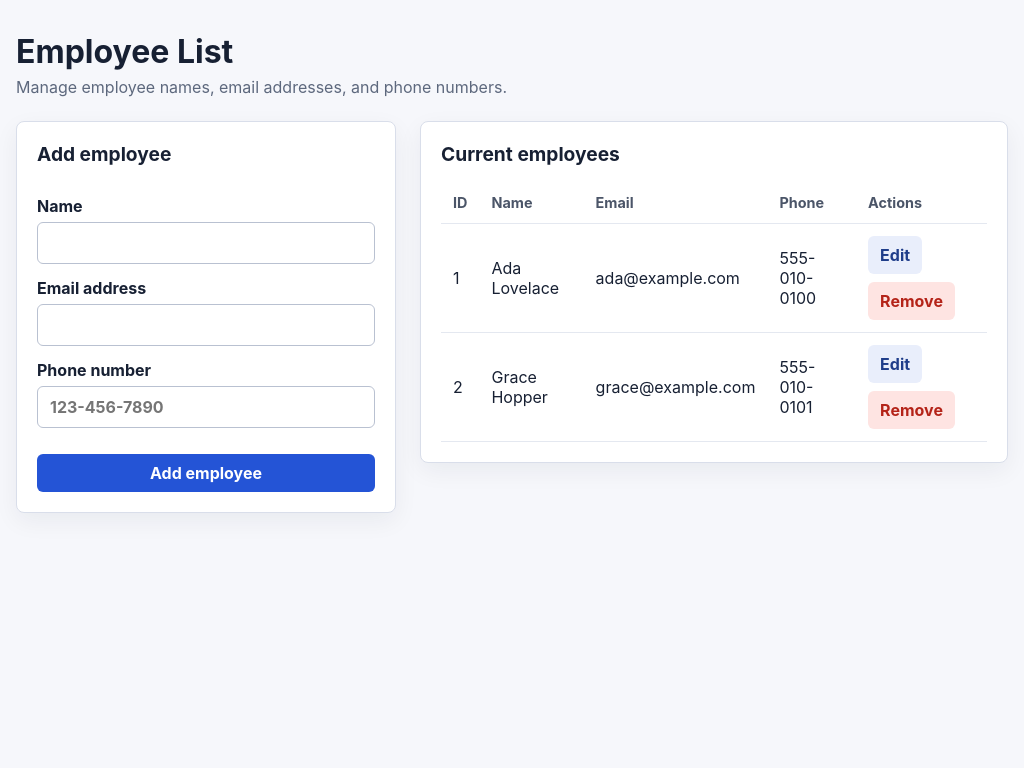
Test case: App › shows duplicate-email alert and keeps edit form values after failed update
Expected: the text "Ada Lovelace" is shown, [479, 224, 584, 332]
Click the button "Edit" in the row of "Ada Lovelace".
click(895, 255)  # box [868, 236, 922, 274]
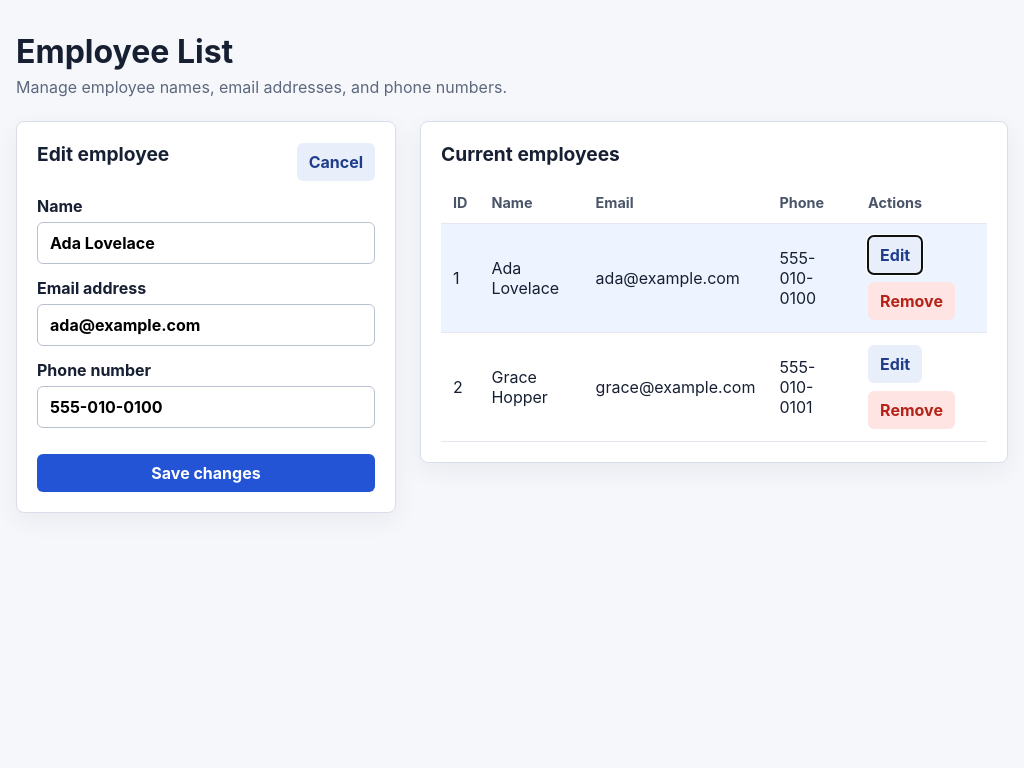
Replace the text in the field labelled "Name" with "Ada Byron" at coordinates (206, 243), box [37, 222, 375, 264]
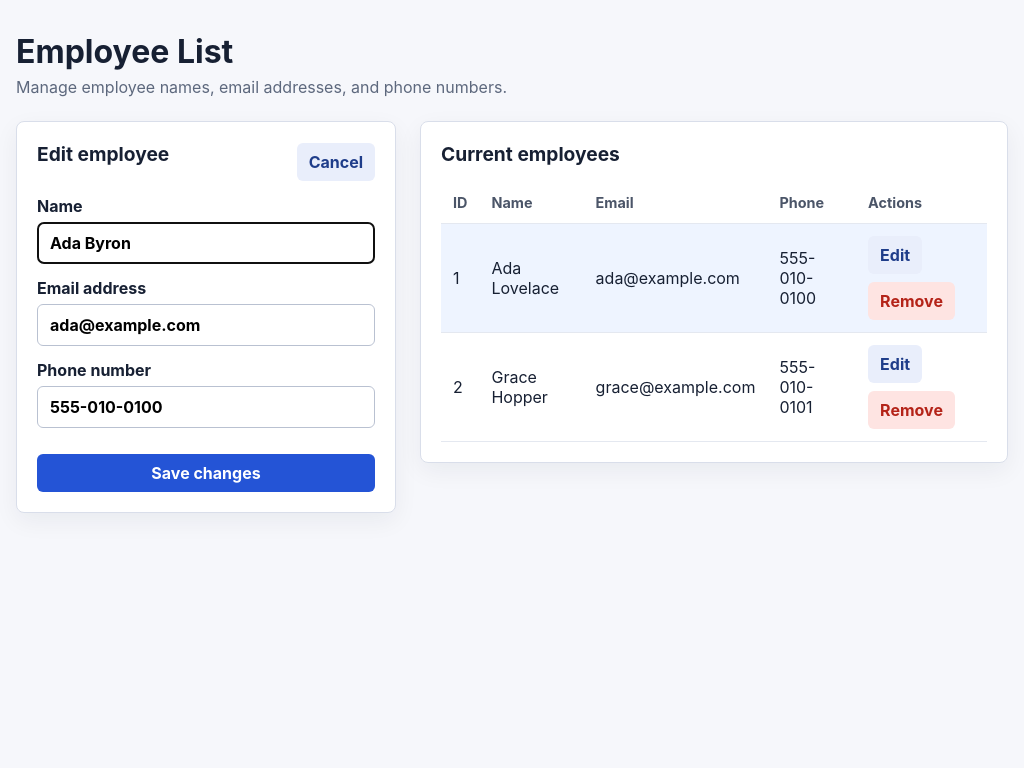
Replace the text in the field labelled "Email address" with "grace@example.com" at coordinates (206, 325), box [37, 304, 375, 346]
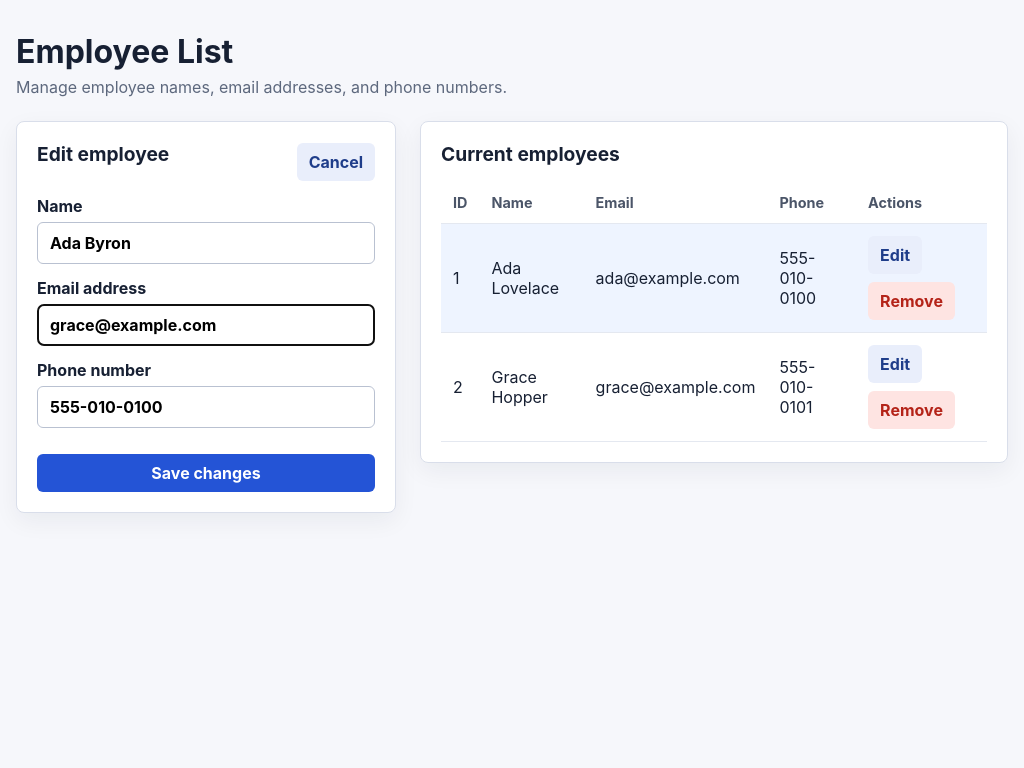
Click the button "Save changes".
click(206, 473)  # box [37, 454, 375, 492]
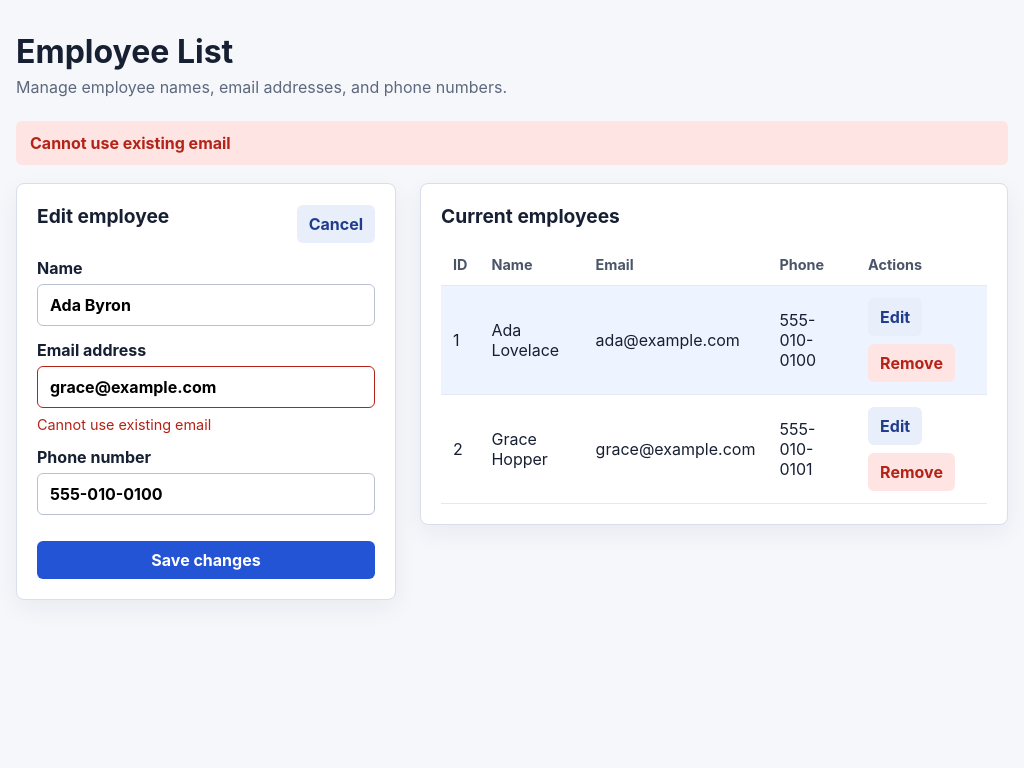
Result: the field labelled "Phone number" holds "555-010-0100" at [37, 473, 375, 515]
Result: the message reads "Cannot use existing email" at [30, 133, 231, 153]
